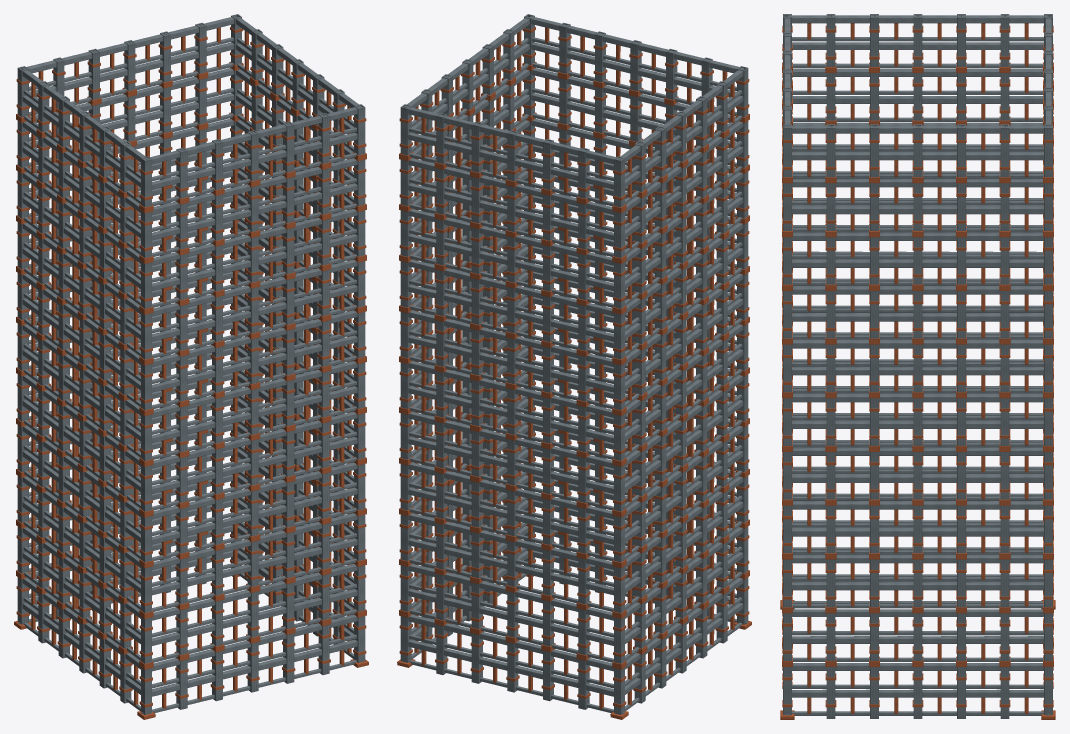
The picture shows the model from 3 angles, left to right: view 1: azimuth 30°, elevation 25°; view 2: azimuth 150°, elevation 25°; view 3: azimuth 270°, elevation 25°; orthographic projection. The views are drawn at different scales.
Visible parts, largest first — view 1: no part large enough to name; view 2: no part large enough to name; view 3: Tier 10 side 3 post 1, Tier 10 side 3 post 3, Tier 10 side 3 post 5, Tier 0 side 1 post 1, Tier 0 side 1 post 3, Tier 0 side 1 post 5, Tier 10 side 1 post 1, Tier 10 side 1 post 3, Tier 10 side 1 post 5.
Boxes of the visible parts, x1,y1,x2,y2 form: Tier 10 side 3 post 1: (1000,14,1009,66); Tier 10 side 3 post 3: (913,14,922,66); Tier 10 side 3 post 5: (826,14,835,66); Tier 0 side 1 post 1: (826,667,835,718); Tier 0 side 1 post 3: (913,667,922,718); Tier 0 side 1 post 5: (1000,667,1009,718); Tier 10 side 1 post 1: (826,124,835,177); Tier 10 side 1 post 3: (913,124,922,177); Tier 10 side 1 post 5: (1000,124,1009,177).
Size of the model in its own units: 2.85 by 6.75 by 2.85.
2 materials, 2 textured.
